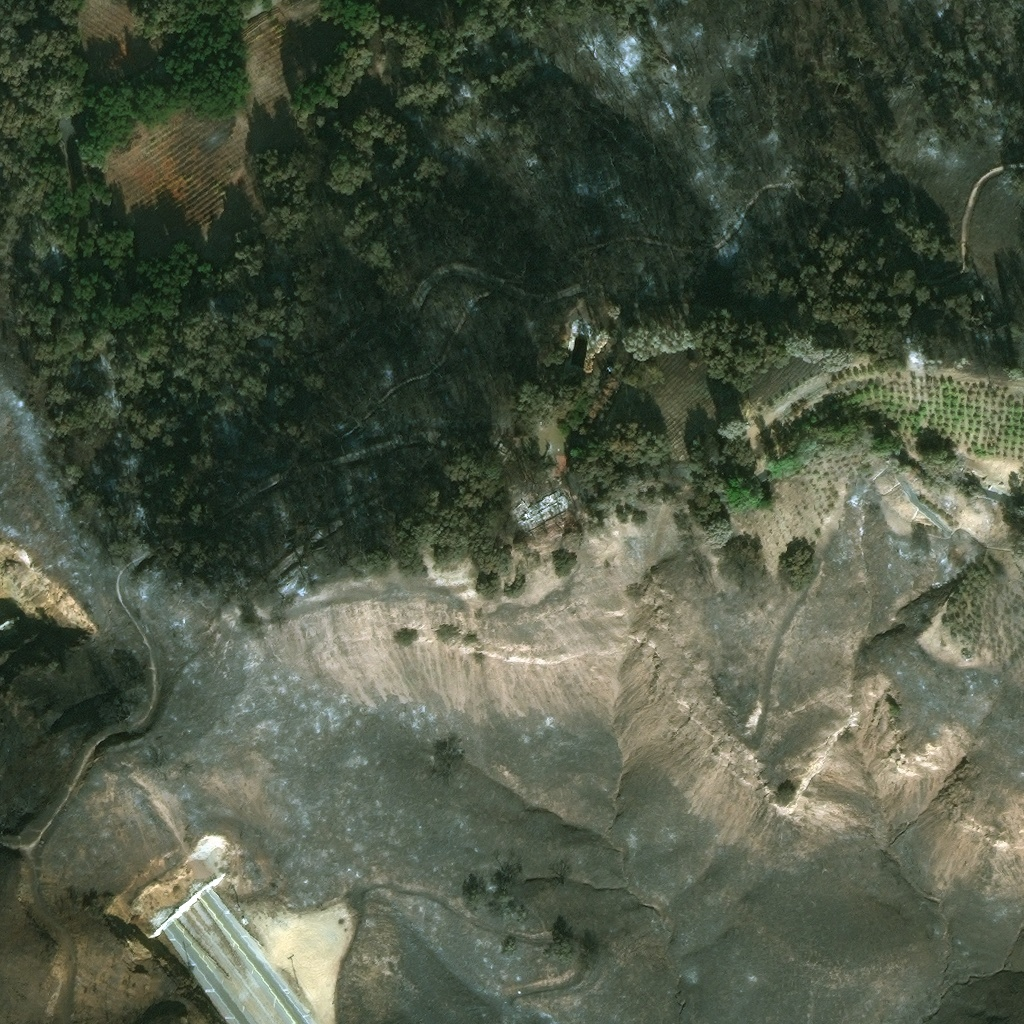3 destroyed: (565, 320, 609, 358), (535, 489, 568, 525), (508, 496, 539, 530), (548, 451, 568, 475), (493, 432, 515, 453)
